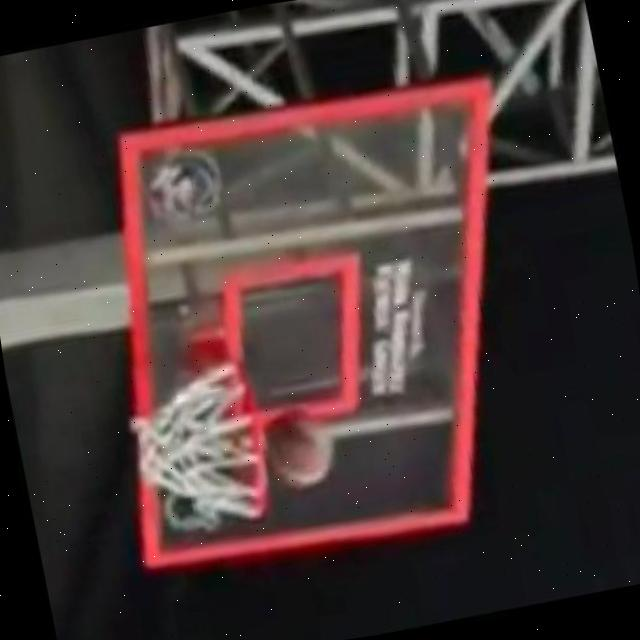ball: (256, 396, 348, 500)
hoop: (218, 357, 274, 524)
